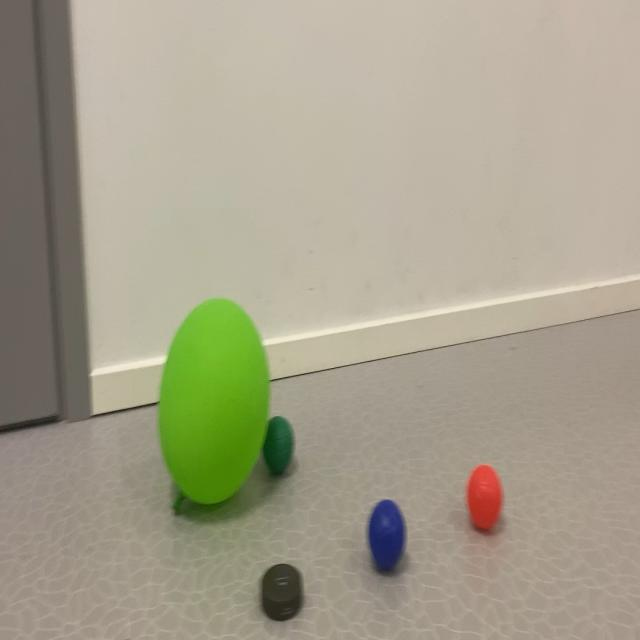7: (457, 433, 532, 585)
green ball: (354, 462, 421, 626)
red ball: (258, 394, 303, 498)
